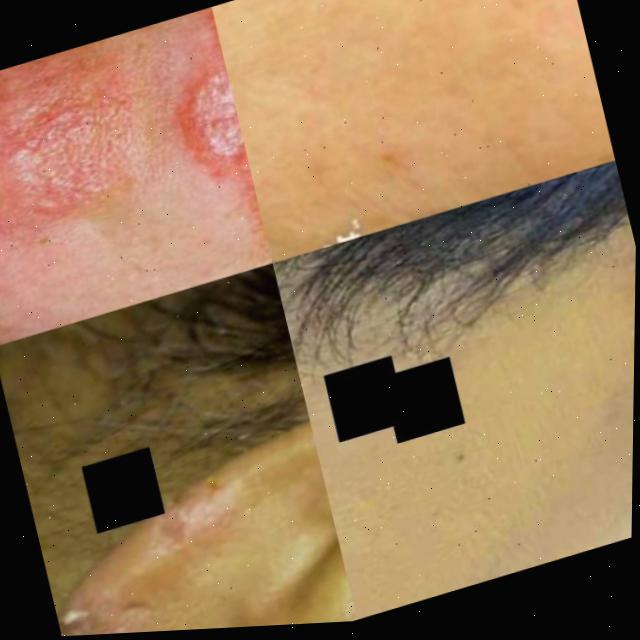lupus-detected: (12, 364, 330, 639), (441, 0, 615, 184), (0, 54, 91, 287), (551, 158, 637, 379), (138, 29, 251, 194)
